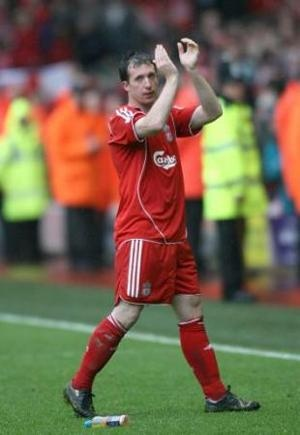person without safety: (62, 38, 265, 418)
